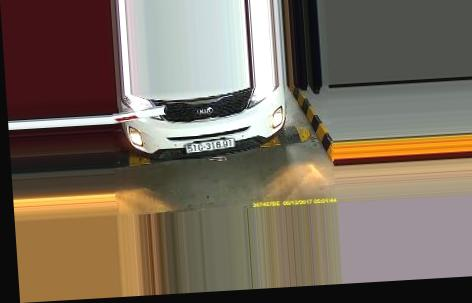License_Plate: (184, 138, 235, 155)
